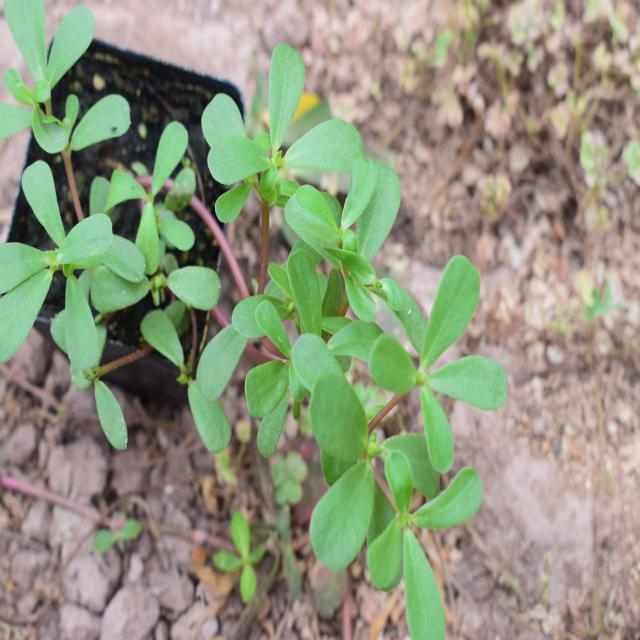purslane: (203, 66, 486, 625), (0, 17, 241, 407)
